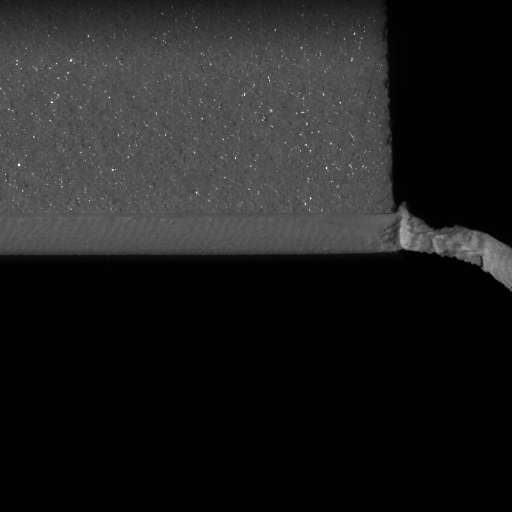changdai: (382, 207, 511, 291)
